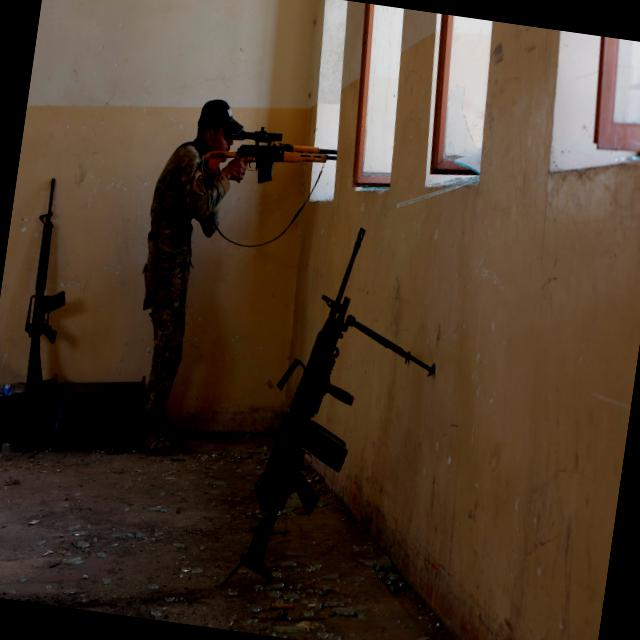long weapon: (191, 201, 422, 598), (229, 112, 337, 192)
